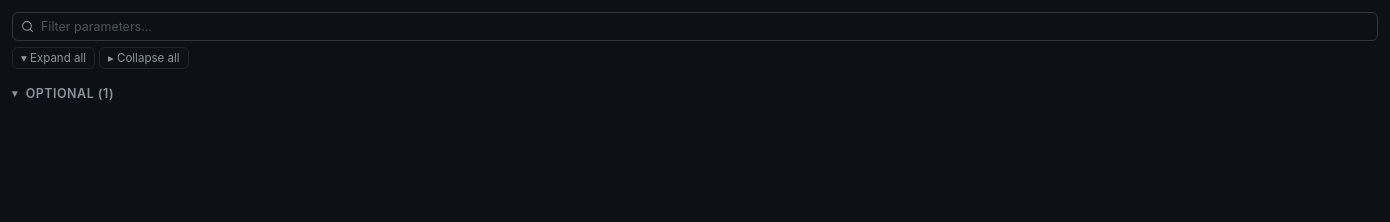
Test case: ParamEditor › shows param description when provided
The width and height of the screenshot is (1390, 222).
Click the button "▾ Optional (1)" at (70, 94), box [12,77,1378,111]
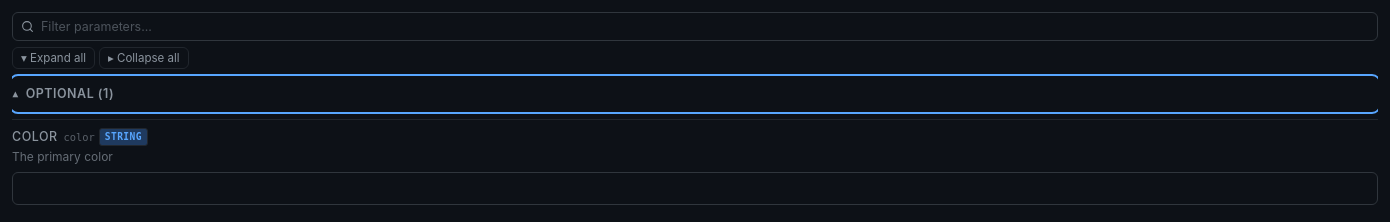
Now the text "The primary color" is shown, box [12,149,113,164]
